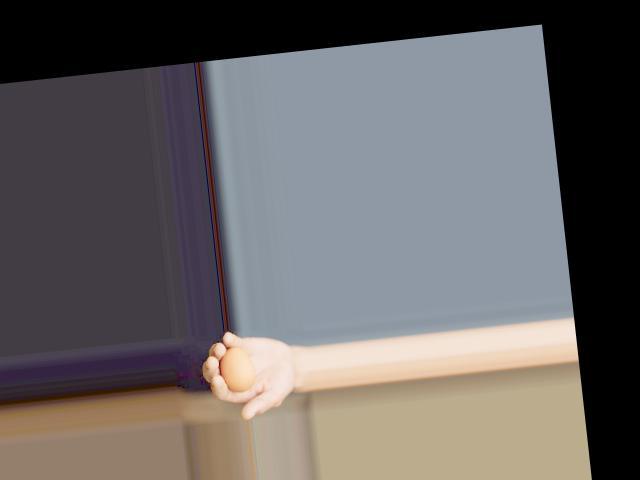egg: (219, 344, 256, 393)
